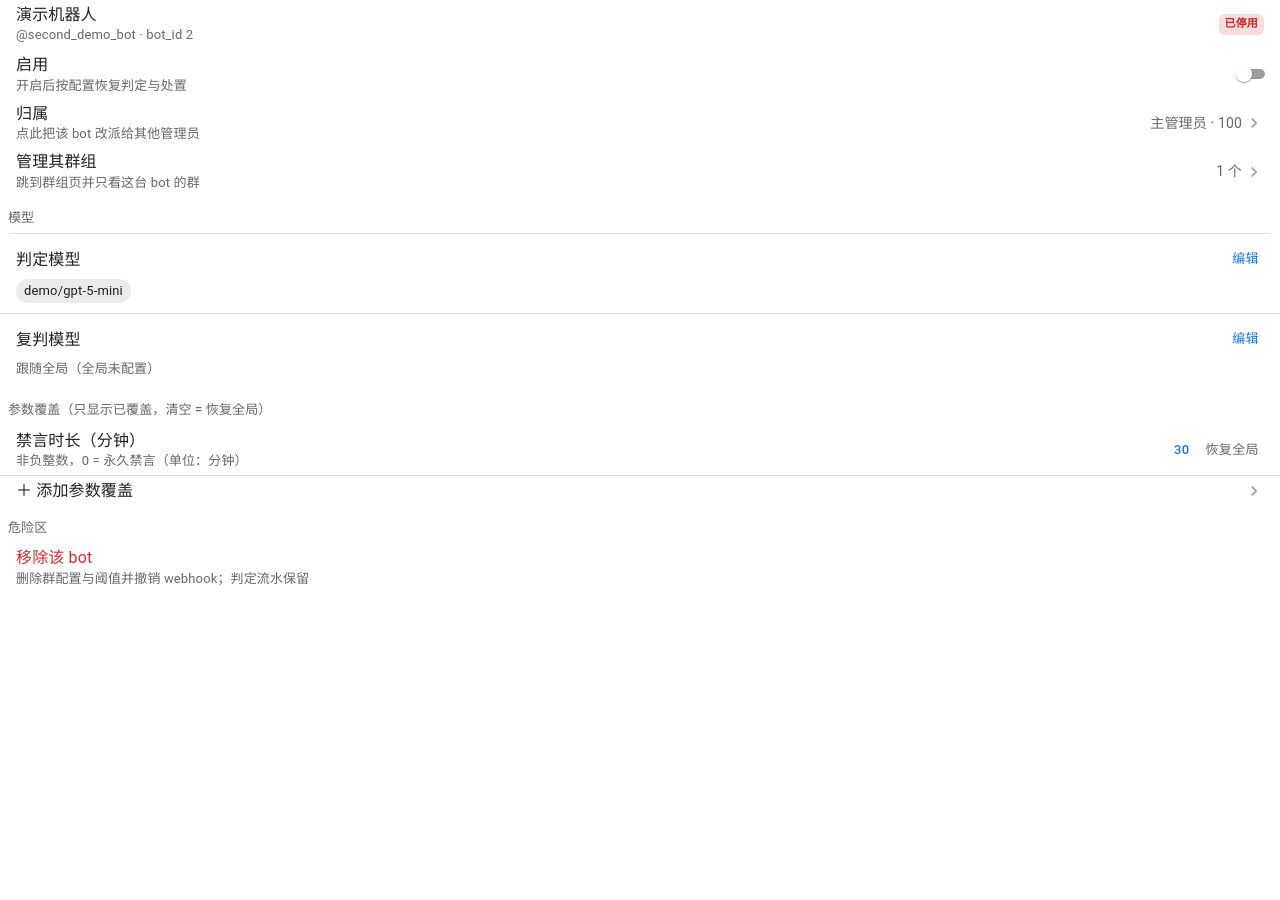
Test: BotDetailPage › 恢复全局：set 传空串
Click the button "恢复全局".
click(1232, 450)  # box 1200,435 -> 1264,466
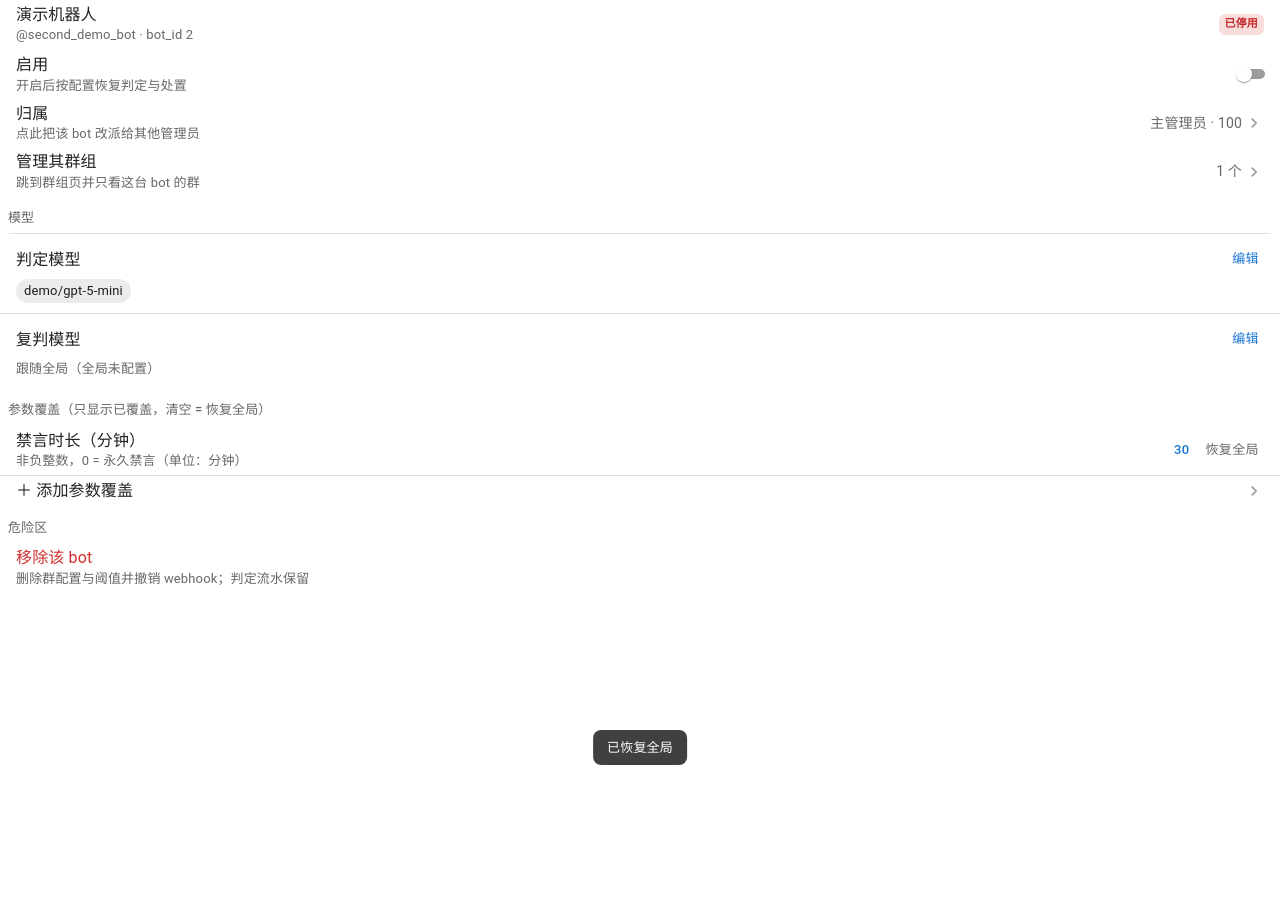
Result: the text "已恢复全局" is shown at 593,730 -> 687,765
